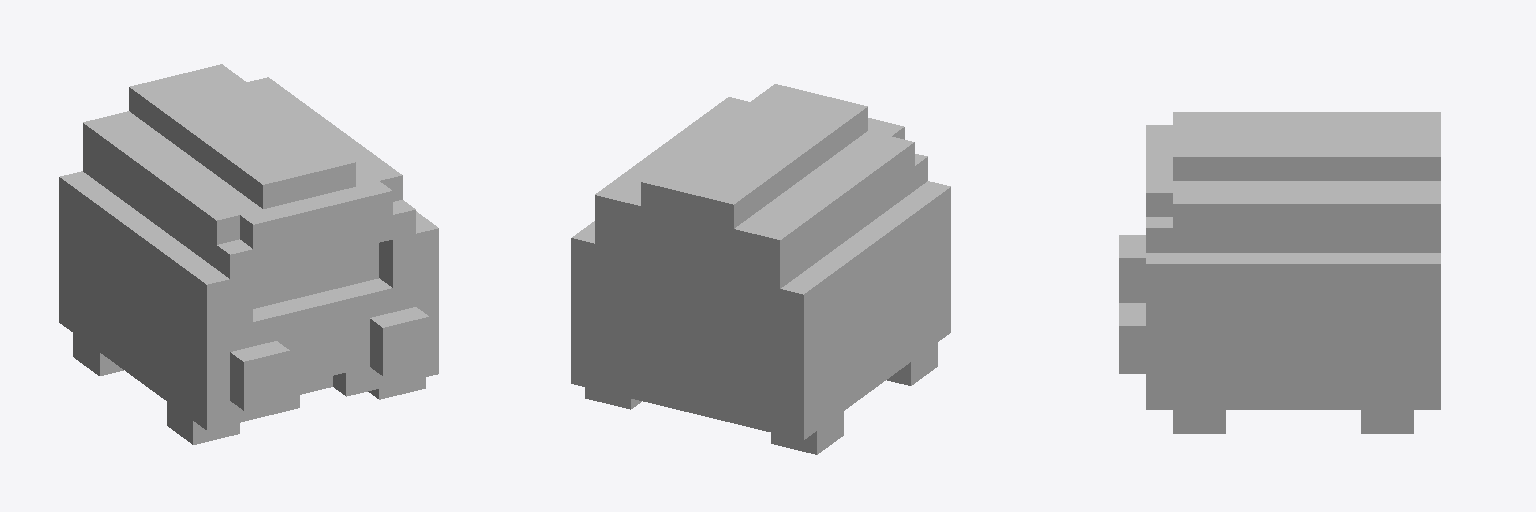
Rendered from radio.obj.
3 views of the same model, side by side, from view 1: azimuth 30°, elevation 25°; view 2: azimuth 150°, elevation 25°; view 3: azimuth 270°, elevation 25° (orthographic).
Visible parts, largest first — view 1: object 1; view 2: object 1; view 3: object 1.
Boxes of the visible parts, box(x1,y1,x2,y2) form: object 1: box(59, 64, 438, 444); object 1: box(571, 84, 950, 454); object 1: box(1119, 112, 1440, 433).
Size of the model in its own units: 1 by 1 by 1.2.